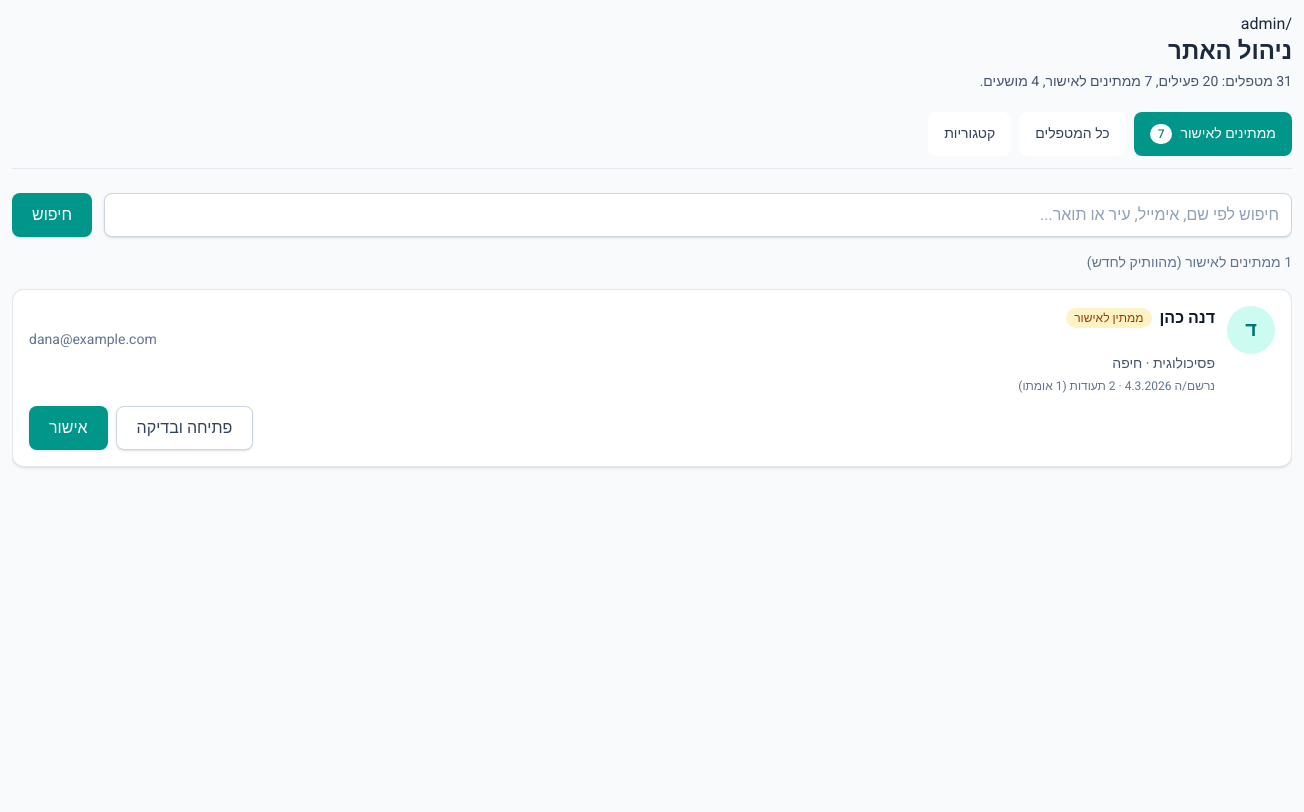
Scenario: AdminPage: overview and tabs › switching tabs updates the URL
Expected: the heading "ניהול האתר" is shown, [1168, 34, 1292, 69]
What coordinates should you click on to do the following:
click the tab "קטגוריות"
I would click on:
 (970, 134)
Its box is [928, 112, 1011, 156].
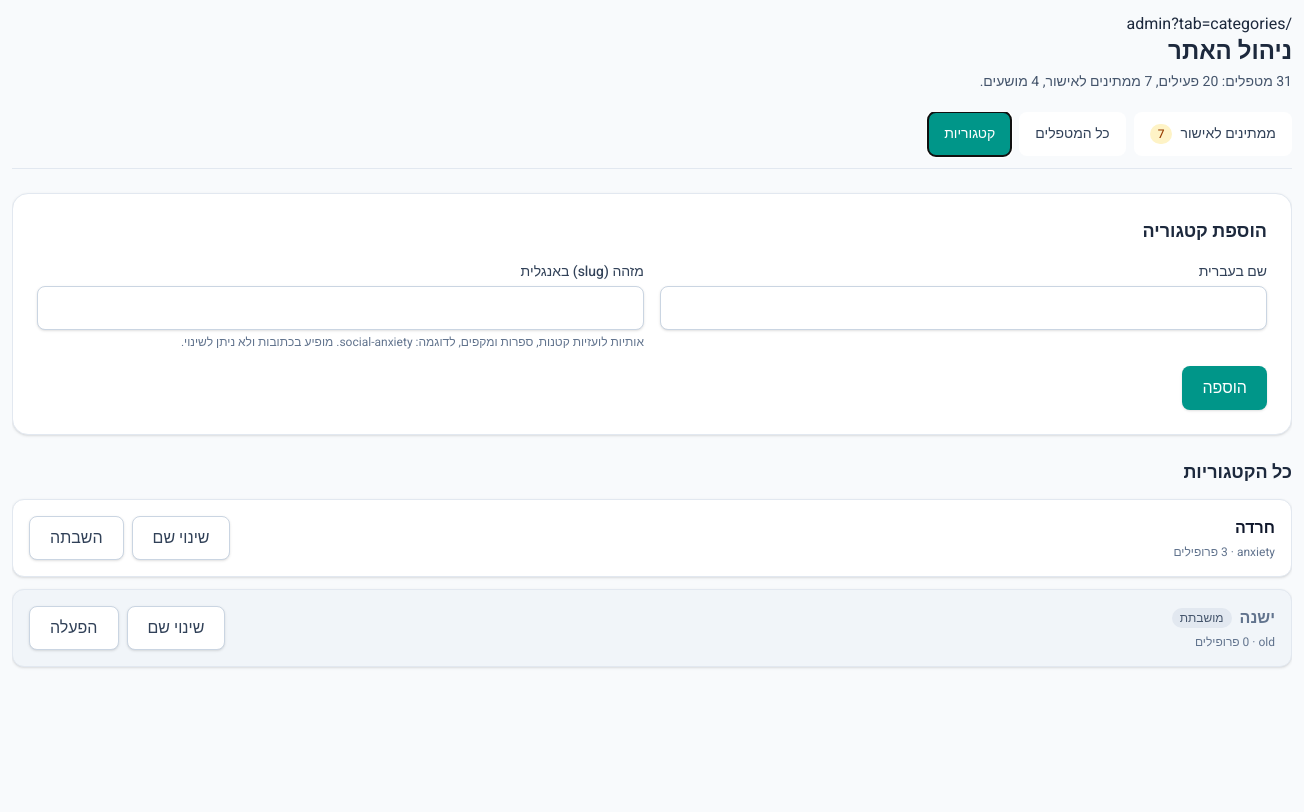
Now the text with test id "location" reads "/admin?tab=categories", box [1127, 12, 1292, 36]
What coordinates should you click on to do the following:
click the tab "ממתינים לאישור 7"
I would click on:
 (1213, 134)
Its box is [1134, 112, 1292, 156].
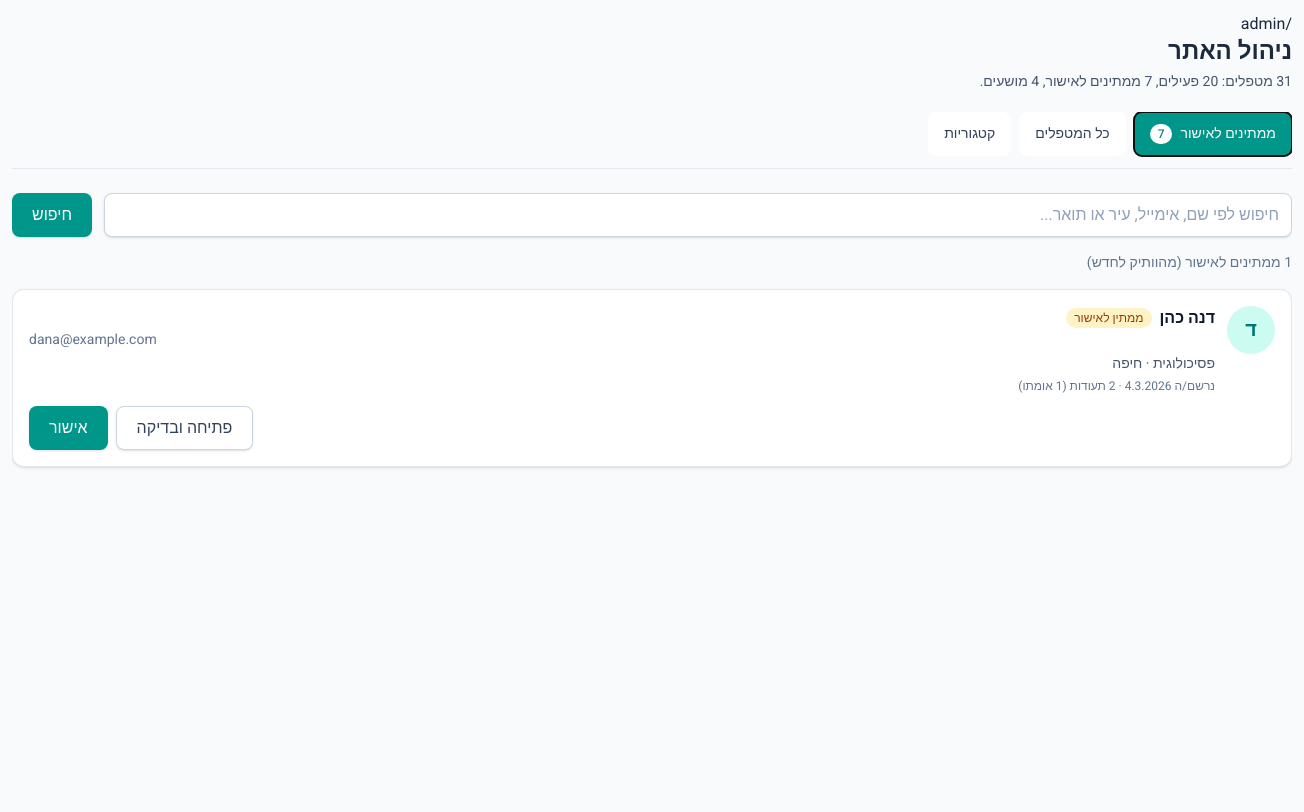
Now the text with test id "location" reads "/admin", box [1241, 12, 1292, 36]
